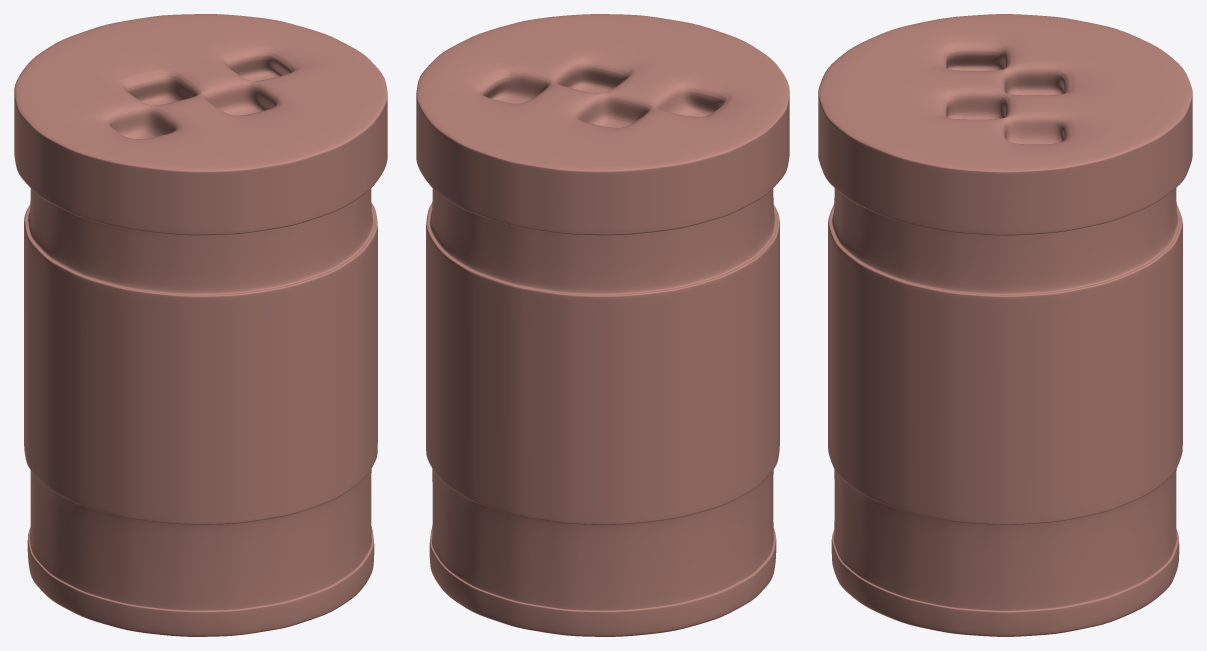
Rendered from SpiceShaker.fbx.
The picture shows the model from 3 angles, left to right: view 1: azimuth 30°, elevation 25°; view 2: azimuth 150°, elevation 25°; view 3: azimuth 270°, elevation 25°; orthographic projection.
Visible parts, largest first — view 1: seasoningBottle; view 2: seasoningBottle; view 3: seasoningBottle.
Boxes of the visible parts, x1=… form: seasoningBottle: x1=14, y1=14, x2=387, y2=636; seasoningBottle: x1=416, y1=14, x2=789, y2=636; seasoningBottle: x1=818, y1=14, x2=1192, y2=636.
Bounding box in the file's own units: 12.07 × 16.87 × 12.08.
